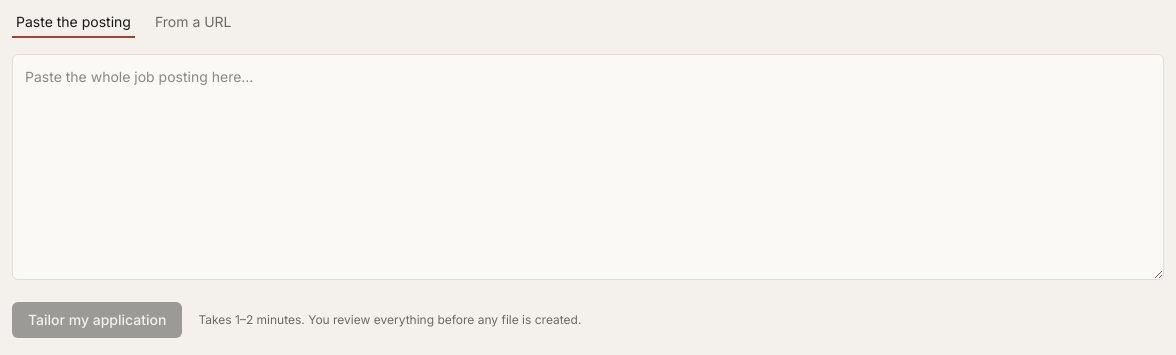
Test: NewRunForm › shows the server's error
The image size is (1176, 355).
Click the tab "From a URL": click(193, 25) x1=151 y1=12 x2=236 y2=38
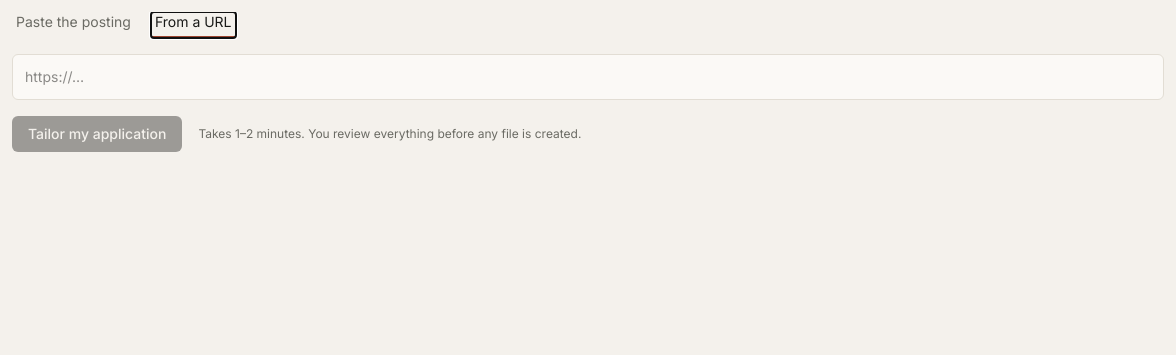
In the field named "posting url": (588, 77) x1=12 y1=54 x2=1164 y2=100, type "https://x.example"
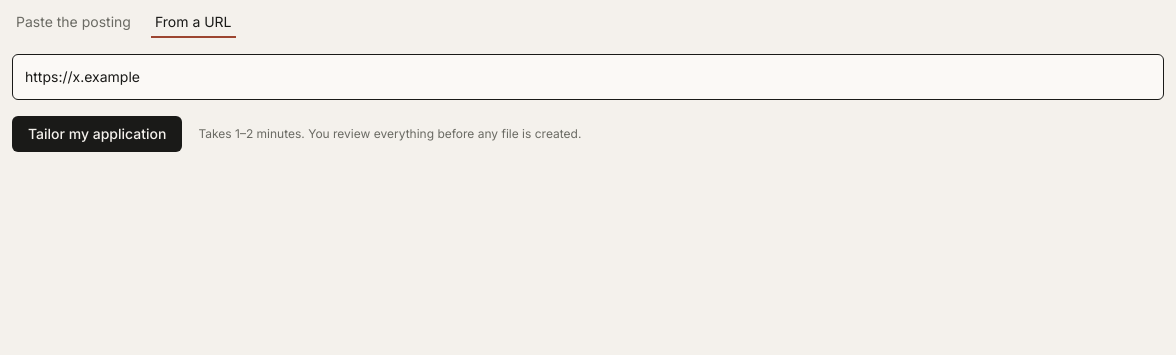
Click the button "Tailor my application": click(97, 134) x1=12 y1=116 x2=182 y2=152
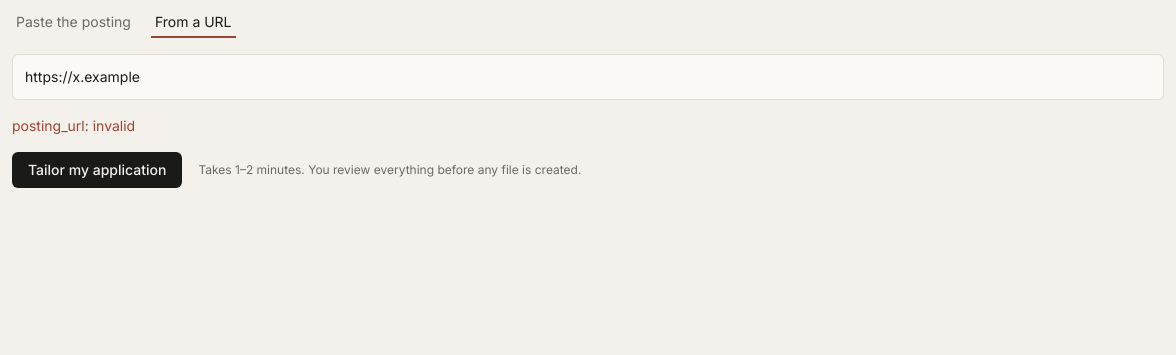
Expected: the message reads "posting_url: invalid", x1=12 y1=117 x2=135 y2=134
